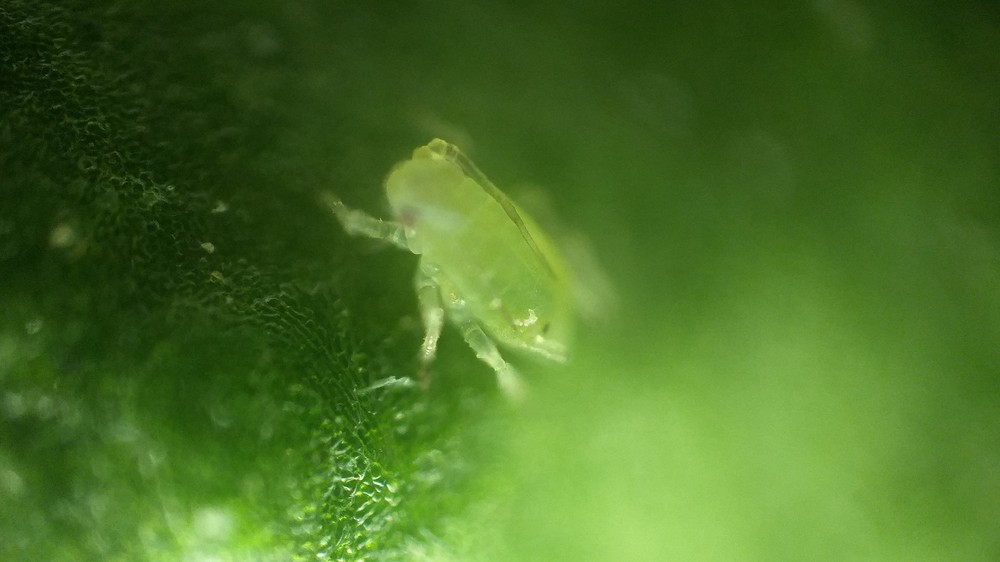Pulgon: (317, 95, 658, 458)
